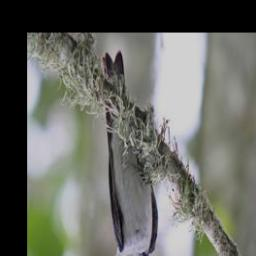Swallow: (99, 49, 159, 256)
